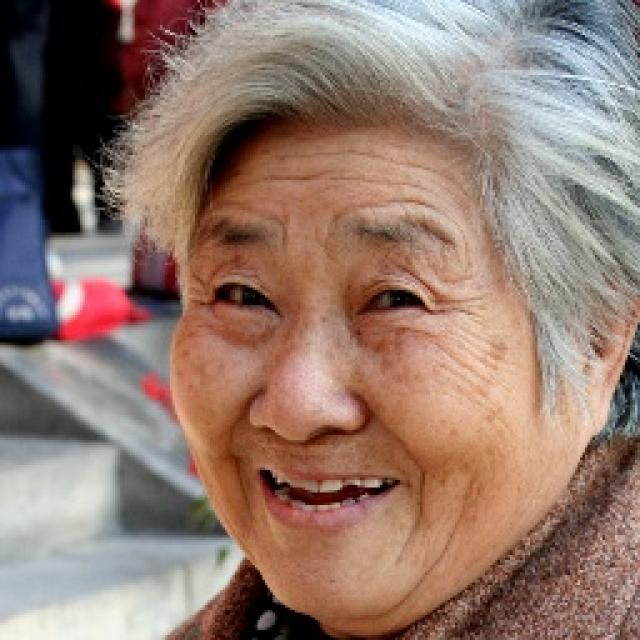earlobe: (581, 284, 638, 434)
